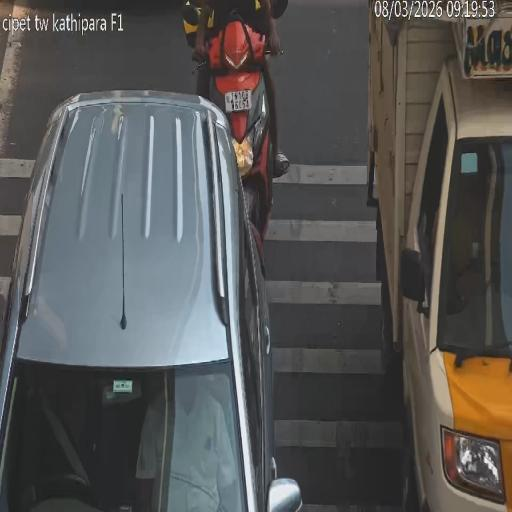person_with_seatbelt: (33, 396, 91, 485)
person_without_seatbelt: (153, 405, 218, 493)
